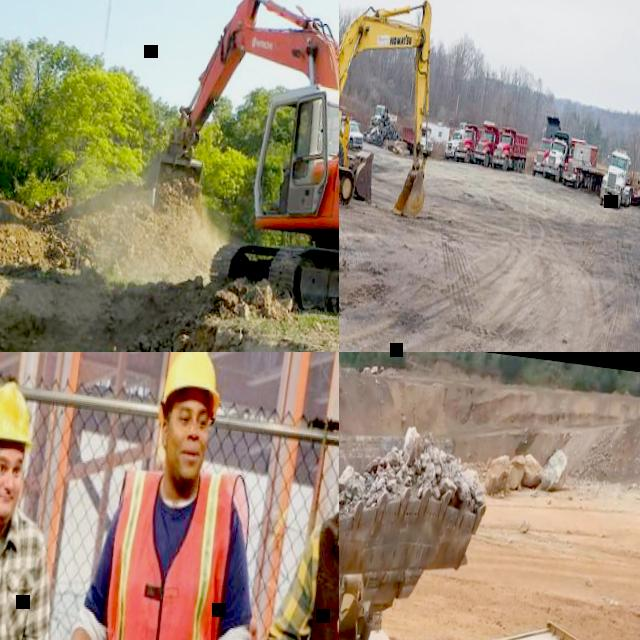Hardhat: (161, 352, 228, 415), (0, 375, 36, 449), (346, 116, 349, 120)
NO-Mask: (163, 439, 206, 484), (0, 481, 23, 526)
NO-Safety Vest: (0, 504, 35, 640)
Person: (15, 352, 288, 640), (188, 367, 339, 640), (0, 360, 99, 640), (269, 128, 313, 217), (341, 116, 352, 156)
Safety Vest: (85, 453, 255, 640), (344, 123, 349, 138)
vehicle: (135, 0, 339, 332), (339, 405, 496, 640), (339, 0, 449, 217), (339, 580, 640, 640), (597, 142, 640, 213), (530, 112, 562, 178), (492, 124, 530, 173), (542, 127, 572, 183), (474, 118, 504, 168), (399, 121, 435, 159), (561, 135, 587, 185), (454, 122, 484, 164), (443, 118, 468, 159), (368, 103, 398, 134), (339, 113, 364, 149)
